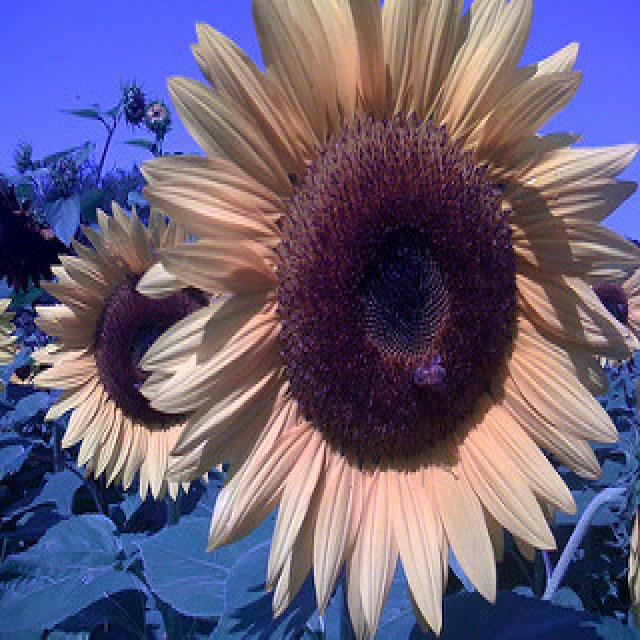sunflower: (136, 0, 640, 640), (32, 187, 240, 501)
